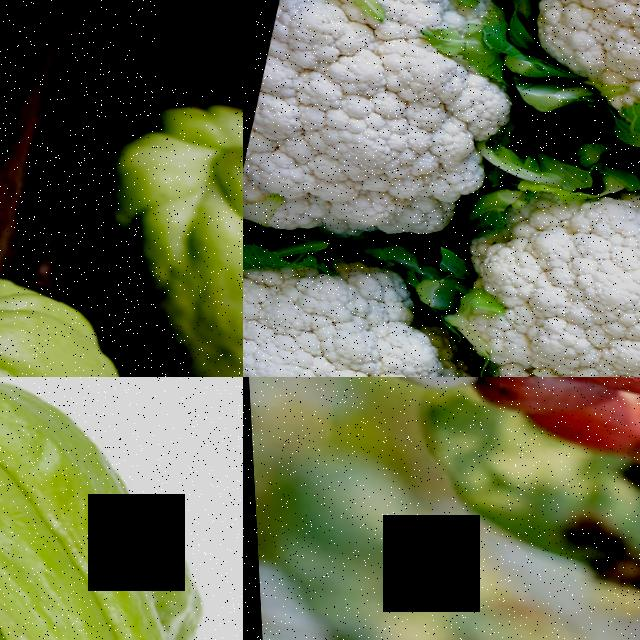cashew: (362, 377, 485, 405)
cauliflower: (243, 0, 551, 301), (404, 123, 640, 377), (243, 256, 494, 377), (512, 0, 640, 198)
chayote: (119, 89, 243, 377), (0, 377, 160, 594), (0, 269, 196, 377)
